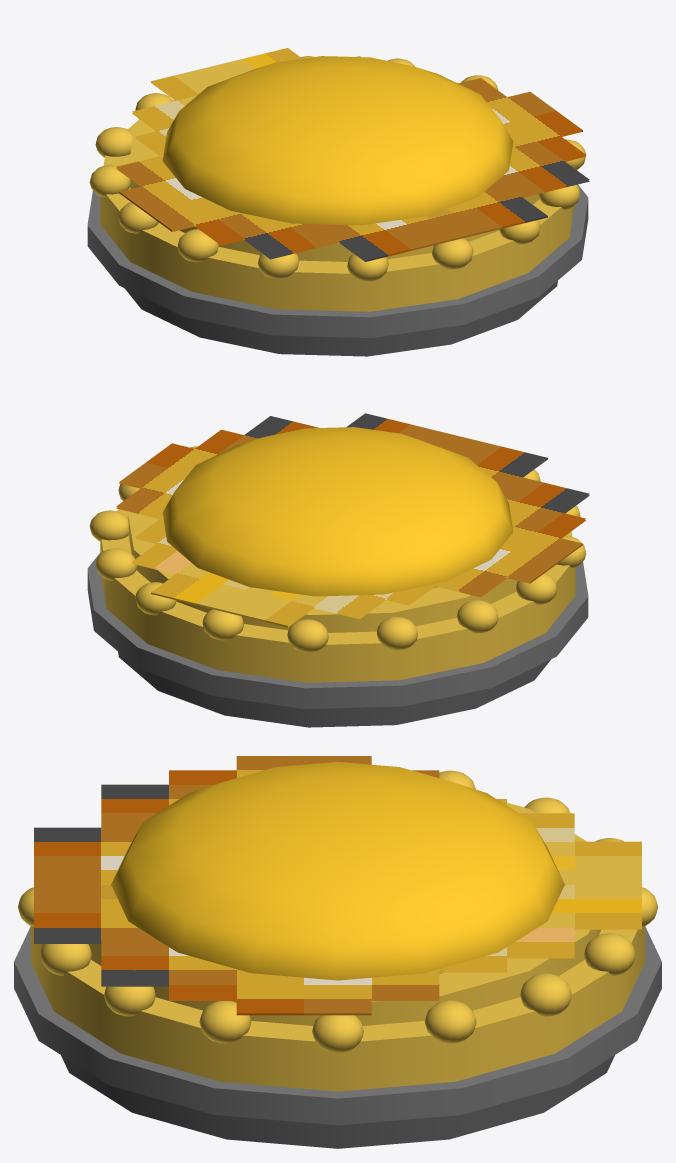
File: CMU3DBakedPieBananaCream.glb
3 renders of one model, top to bottom at view 1: azimuth 30°, elevation 25°; view 2: azimuth 150°, elevation 25°; view 3: azimuth 270°, elevation 25°, orthographic. The views are drawn at different scales.
Visible parts, largest first — view 1: soft cream dome, original pastry lattice and filling, solid pastry shell, rolled pan lip, metal pie pan, baked filling, crimped crust edge 10, crimped crust edge 13, crimped crust edge 8, crimped crust edge 7, crimped crust edge 12, crimped crust edge 11 (+3 smaller); view 2: soft cream dome, original pastry lattice and filling, solid pastry shell, rolled pan lip, metal pie pan, baked filling, crimped crust edge 6, crimped crust edge 7, crimped crust edge 8, crimped crust edge 3, crimped crust edge 2, crimped crust edge 5 (+2 smaller); view 3: soft cream dome, original pastry lattice and filling, solid pastry shell, rolled pan lip, metal pie pan, baked filling, crimped crust edge 2, crimped crust edge 3, crimped crust edge 4, crimped crust edge 16, crimped crust edge 1, crimped crust edge 14 (+1 smaller).
Part boxes in pixels (x1,y1,x2,y2): soft cream dome: [162, 56, 513, 225]; original pastry lattice and filling: [116, 48, 589, 261]; solid pastry shell: [100, 119, 574, 311]; rolled pan lip: [87, 184, 588, 337]; metal pie pan: [125, 281, 557, 356]; baked filling: [129, 82, 539, 261]; crimped crust edge 10: [177, 229, 218, 262]; crimped crust edge 13: [432, 238, 473, 269]; crimped crust edge 8: [89, 164, 130, 197]; crimped crust edge 7: [95, 127, 133, 157]; crimped crust edge 12: [347, 253, 388, 281]; crimped crust edge 11: [258, 253, 299, 278]; soft cream dome: [162, 427, 513, 596]; original pastry lattice and filling: [116, 413, 589, 627]; solid pastry shell: [100, 509, 575, 682]; rolled pan lip: [87, 553, 588, 708]; metal pie pan: [118, 652, 550, 727]; baked filling: [128, 512, 517, 632]; crimped crust edge 6: [287, 619, 328, 652]; crimped crust edge 7: [376, 616, 417, 649]; crimped crust edge 8: [457, 600, 498, 633]; crimped crust edge 3: [95, 548, 136, 580]; crimped crust edge 2: [89, 510, 128, 541]; crimped crust edge 5: [202, 609, 243, 640]; soft cream dome: [111, 762, 564, 980]; original pastry lattice and filling: [34, 756, 641, 1015]; solid pastry shell: [30, 834, 645, 1091]; rolled pan lip: [14, 927, 661, 1125]; metal pie pan: [61, 1055, 614, 1148]; baked filling: [88, 802, 600, 1025]; crimped crust edge 2: [424, 1000, 476, 1043]; crimped crust edge 3: [520, 973, 571, 1016]; crimped crust edge 4: [584, 933, 635, 975]; crimped crust edge 16: [199, 1001, 251, 1043]; crimped crust edge 1: [312, 1015, 363, 1052]; crimped crust edge 14: [40, 944, 91, 975].
Bounding box in the file's own units: 0.5488 × 0.205 × 0.5488.
5 materials, 1 textured.
